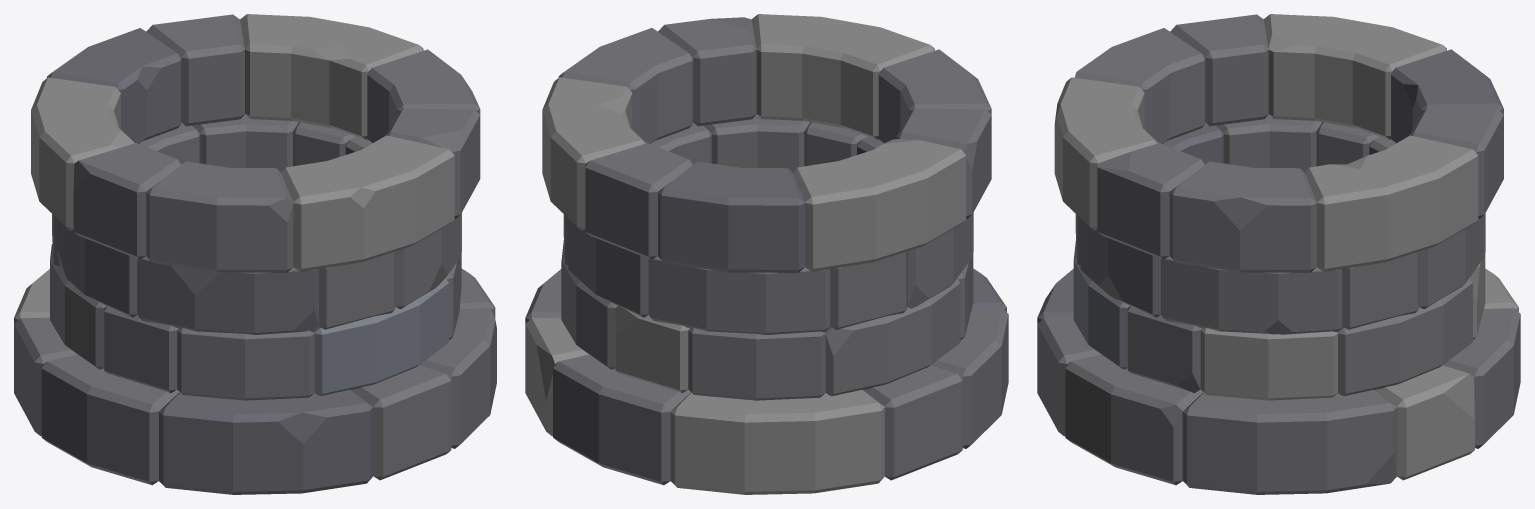
The model's file is well.fbx.
The picture shows the model from 3 angles, left to right: view 1: azimuth 30°, elevation 25°; view 2: azimuth 150°, elevation 25°; view 3: azimuth 270°, elevation 25°; orthographic projection.
Parts seen in each view (by area): view 1: well; view 2: well; view 3: well.
Part boxes in pixels (<box>): well: <box>14,14,496,494</box>; well: <box>525,14,1008,494</box>; well: <box>1037,14,1520,494</box>.
Size of the model in its own units: 444 by 294 by 444.
